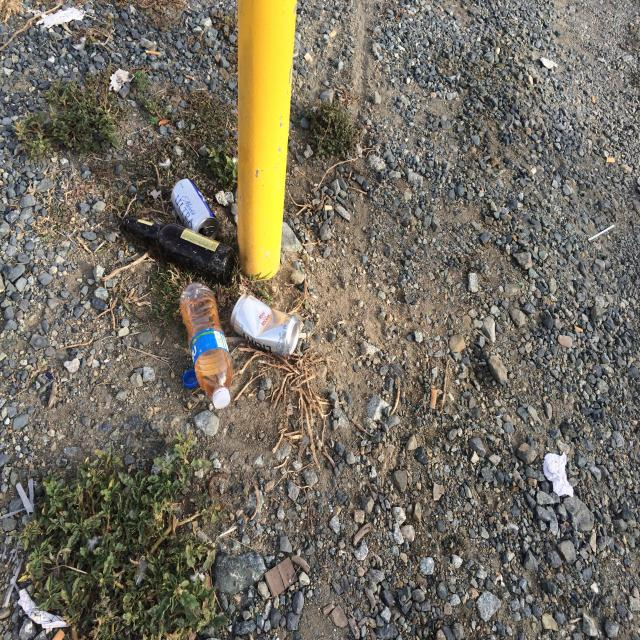litter: (122, 214, 235, 285), (180, 283, 232, 409), (231, 293, 299, 357), (171, 178, 218, 239), (543, 452, 574, 498), (211, 389, 230, 409), (182, 369, 198, 388), (430, 388, 438, 408), (52, 629, 65, 640), (204, 226, 215, 234), (146, 50, 160, 55), (574, 325, 583, 332), (607, 157, 615, 164), (186, 75, 194, 80), (591, 96, 595, 103)
